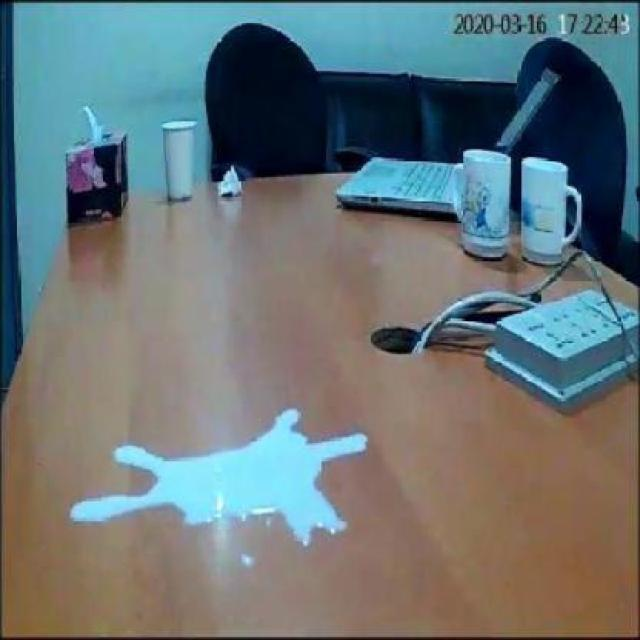spillage: (66, 409, 371, 554)
